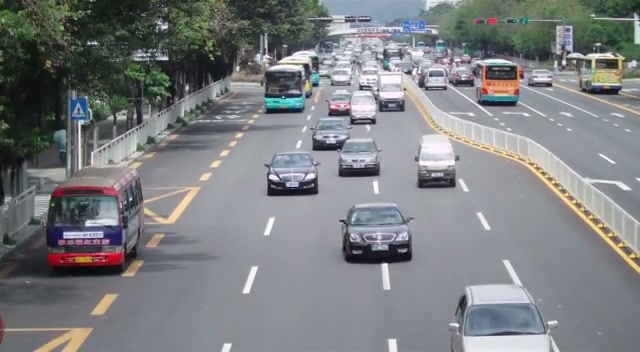bus: (45, 164, 145, 274), (473, 58, 521, 105), (263, 64, 306, 113), (578, 53, 624, 93)
car: (448, 283, 560, 352), (338, 202, 415, 263), (264, 150, 320, 196), (414, 133, 457, 188), (337, 138, 381, 176), (312, 117, 351, 150), (350, 90, 378, 124), (327, 90, 352, 115), (527, 69, 553, 87), (449, 67, 474, 85)
truck: (376, 71, 405, 111)
